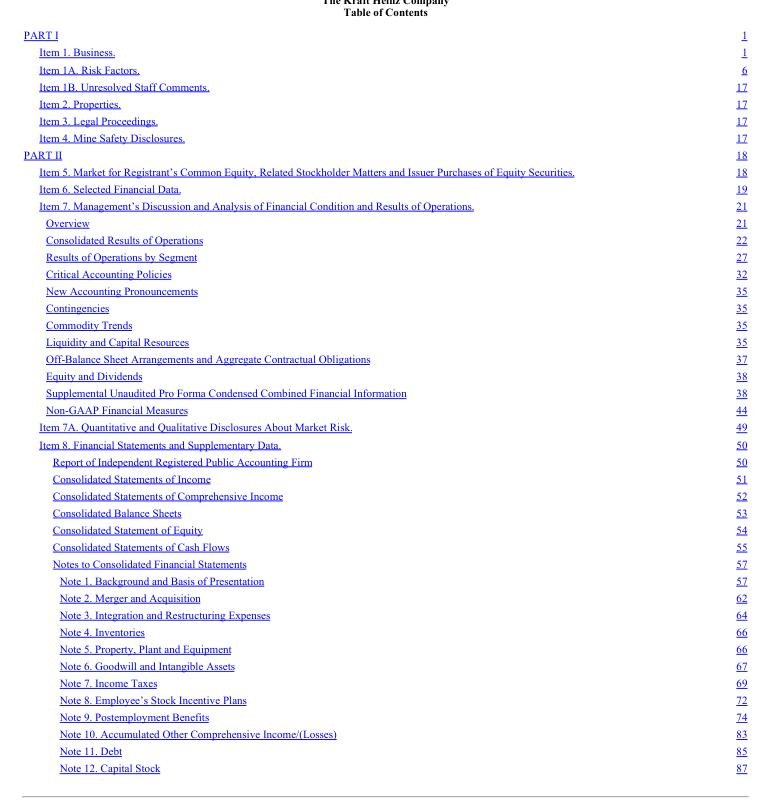table: (22, 28, 746, 773)
table column: (22, 28, 654, 773), (654, 28, 746, 773)
table row: (22, 332, 746, 350), (22, 707, 746, 725), (22, 43, 746, 60), (22, 60, 746, 77), (22, 77, 746, 94), (22, 94, 746, 111), (22, 111, 746, 128), (22, 128, 746, 145), (22, 145, 746, 162), (22, 162, 746, 179), (22, 179, 746, 196), (22, 196, 746, 213), (22, 213, 746, 230), (22, 230, 746, 247), (22, 247, 746, 264), (22, 264, 746, 281), (22, 281, 746, 298), (22, 298, 746, 315), (22, 315, 746, 332), (22, 350, 746, 367), (22, 367, 746, 384), (22, 384, 746, 401), (22, 401, 746, 418), (22, 418, 746, 435), (22, 435, 746, 452), (22, 452, 746, 469), (22, 469, 746, 486), (22, 486, 746, 503), (22, 503, 746, 520), (22, 520, 746, 537), (22, 537, 746, 554), (22, 554, 746, 571), (22, 571, 746, 588), (22, 588, 746, 605), (22, 605, 746, 622), (22, 622, 746, 639), (22, 639, 746, 656), (22, 656, 746, 673), (22, 673, 746, 690), (22, 690, 746, 707), (22, 725, 746, 742), (22, 742, 746, 759), (22, 28, 746, 43), (22, 759, 746, 773)
